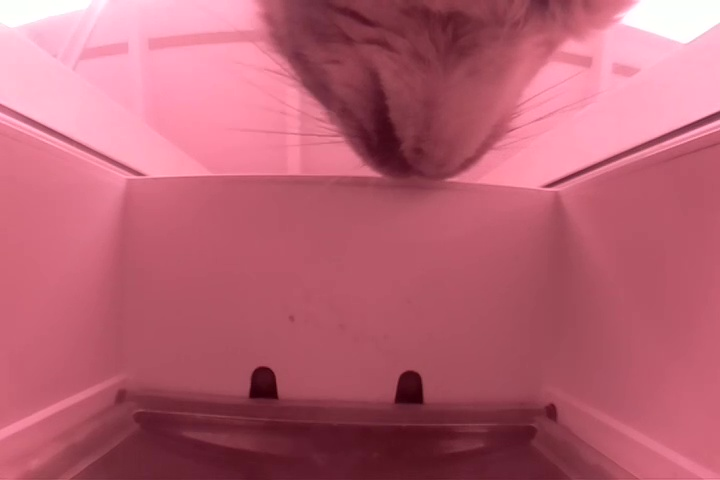Snout: (352, 67, 514, 183)
